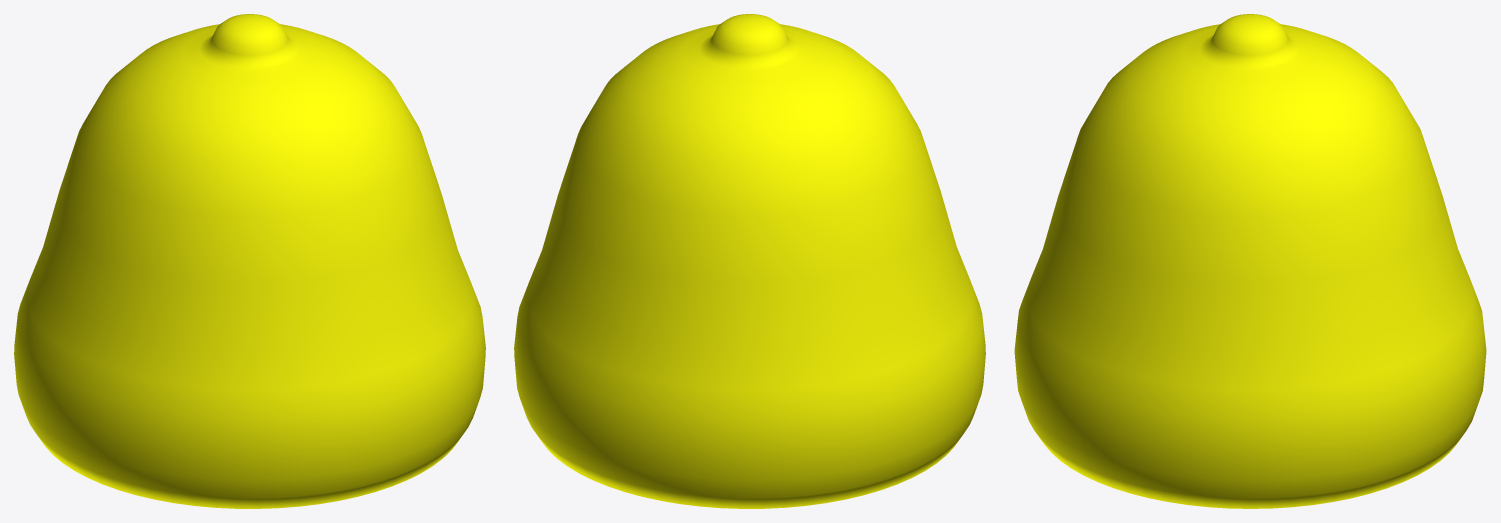
Rendered from Bell.fbx.
3 views of the same model, side by side, from view 1: azimuth 30°, elevation 25°; view 2: azimuth 150°, elevation 25°; view 3: azimuth 270°, elevation 25° (orthographic).
Visible parts, largest first — view 1: Bell; view 2: Bell; view 3: Bell.
Boxes of the visible parts, <box> form: Bell: <box>14,14,485,508</box>; Bell: <box>514,14,985,508</box>; Bell: <box>1014,14,1486,508</box>.
Bounding box in the file's own units: 104 × 107 × 104.
